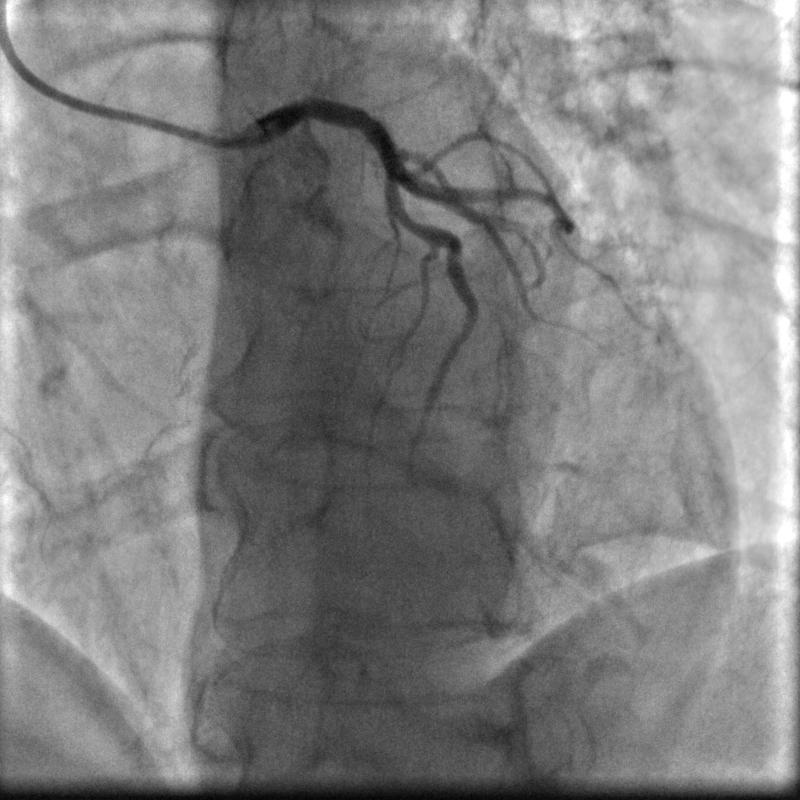Stenosis: (388, 207, 422, 227)
